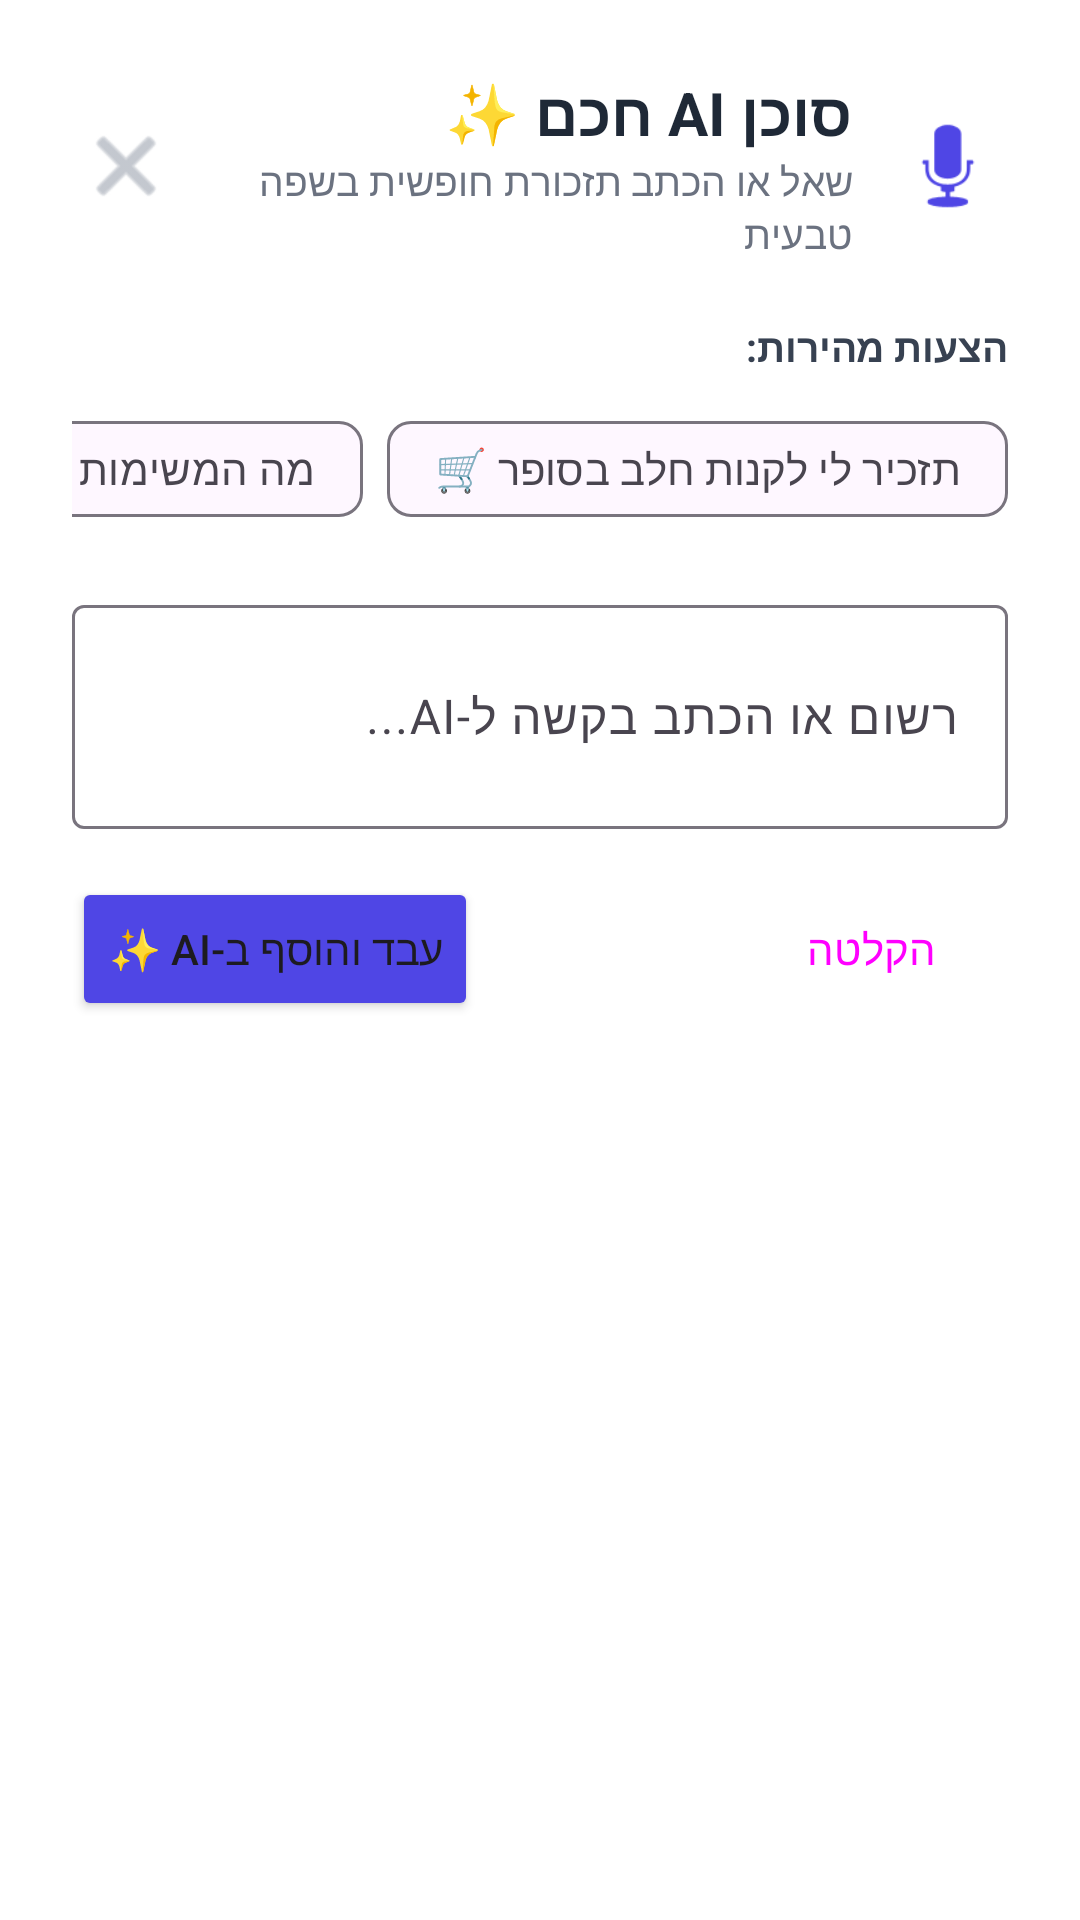

Point at icon controls on the screen. Image size 1080×1920, points as point (x, y).
close clear cancel: point (126, 166)
speak now: point (948, 166)
